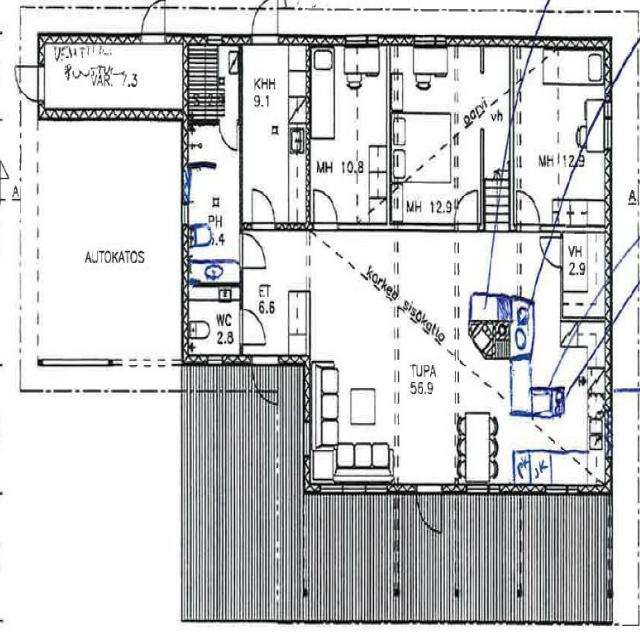door: (416, 484, 444, 536), (252, 355, 280, 407), (252, 0, 278, 45), (14, 66, 46, 101), (142, 0, 165, 45), (516, 189, 540, 232), (252, 189, 275, 231), (314, 189, 337, 231), (239, 309, 267, 343), (455, 190, 477, 231), (539, 236, 563, 268), (239, 233, 264, 263), (219, 119, 236, 150)
